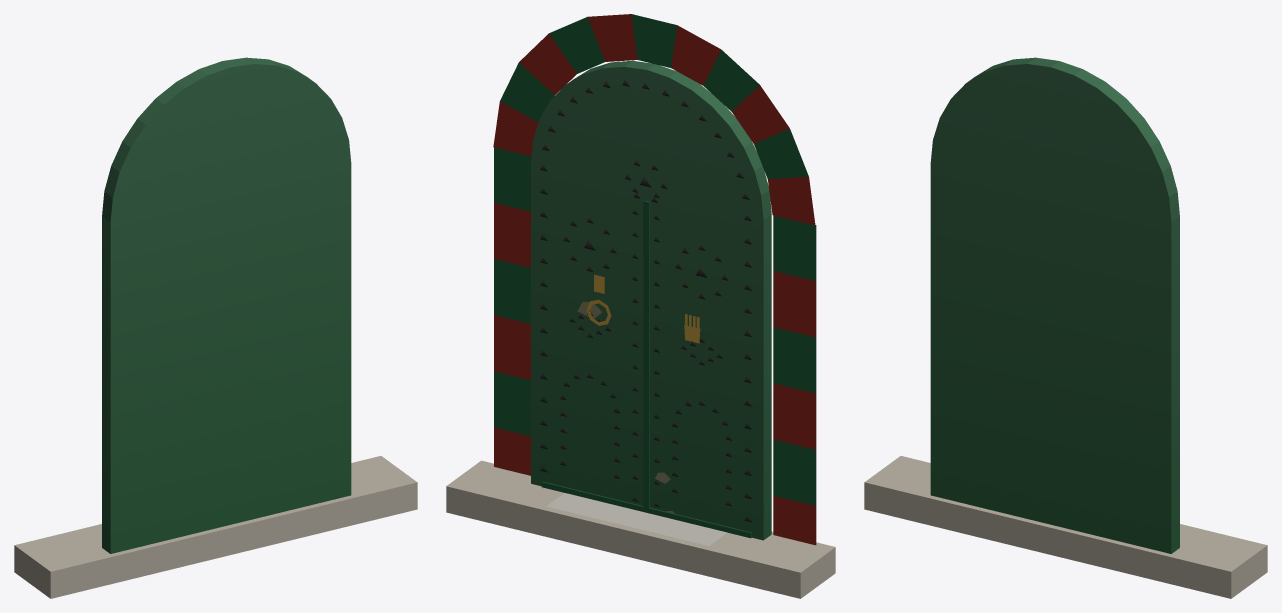
Rendered from door_medina_green.glb.
3 renders of one model, left to right at view 1: azimuth 30°, elevation 25°; view 2: azimuth 150°, elevation 25°; view 3: azimuth 330°, elevation 25°, orthographic. The views are drawn at different scales.
Parts seen in each view (by area): view 1: door_medina_green; view 2: door_medina_green; view 3: door_medina_green.
Part boxes in pixels (x1,y1,x2,y2): door_medina_green: (14,57,417,598); door_medina_green: (446,14,835,598); door_medina_green: (864,57,1267,598).
Bounding box in the file's own units: 1.98 × 2.74 × 0.34.
